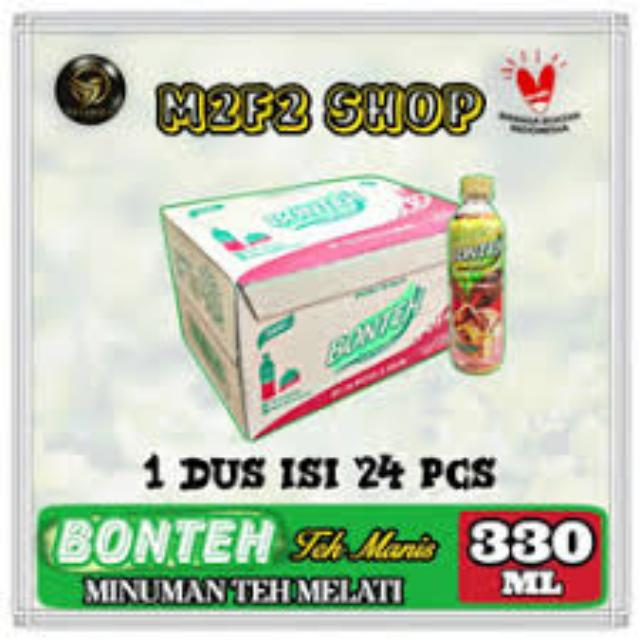trash: (444, 173, 514, 374)
